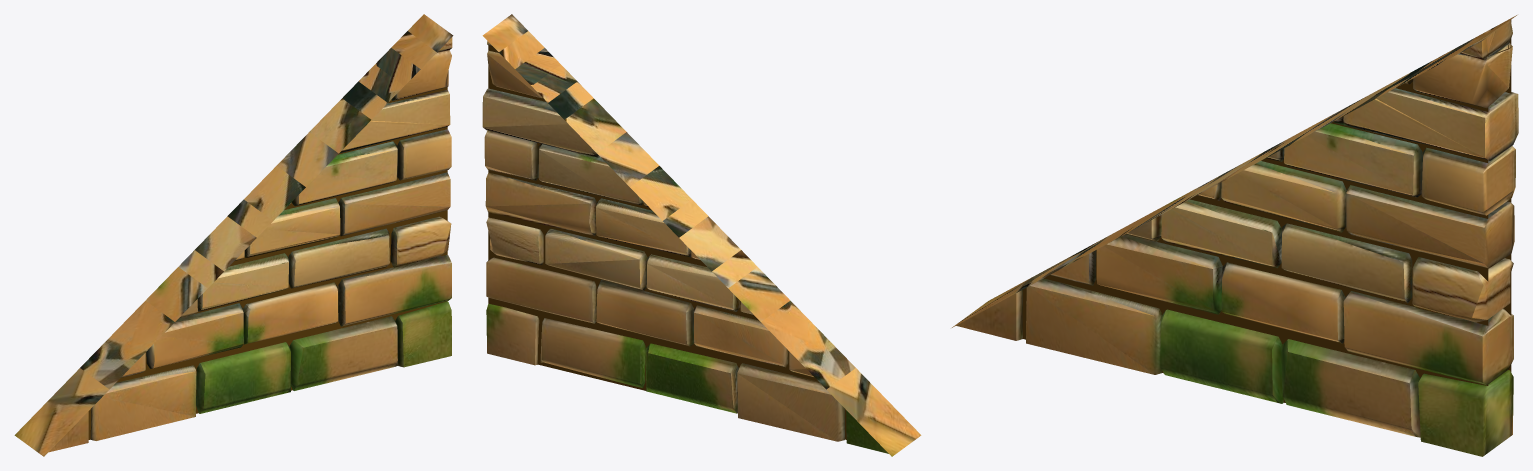
File: wall-stone-gable.glb
The picture shows the model from 3 angles, left to right: view 1: azimuth 30°, elevation 25°; view 2: azimuth 150°, elevation 25°; view 3: azimuth 330°, elevation 25°; orthographic projection. The views are drawn at different scales.
Size of the model in its own units: 2 by 1.5 by 0.25.
1 material, 1 textured.
